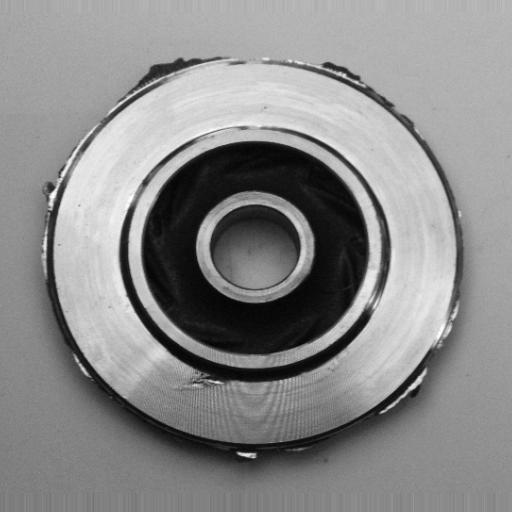casting_with_burr: (35, 50, 466, 468)
crack: (174, 368, 247, 396)
scratch: (188, 119, 289, 138)
